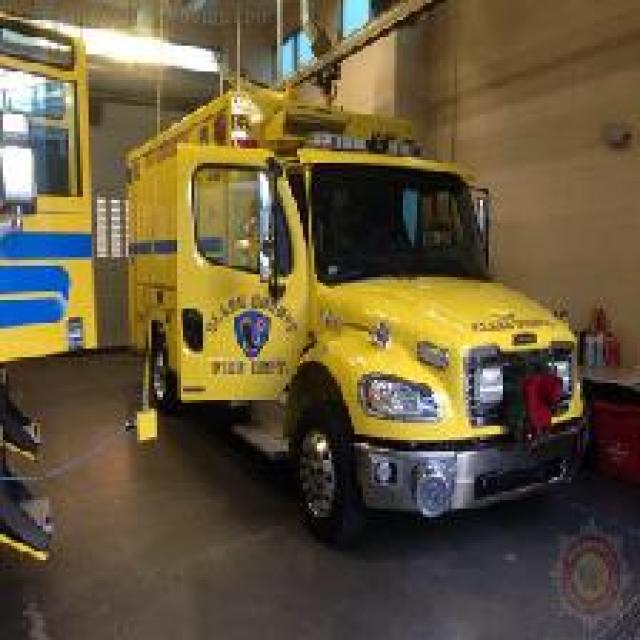Ambulance: (176, 140, 576, 560)
